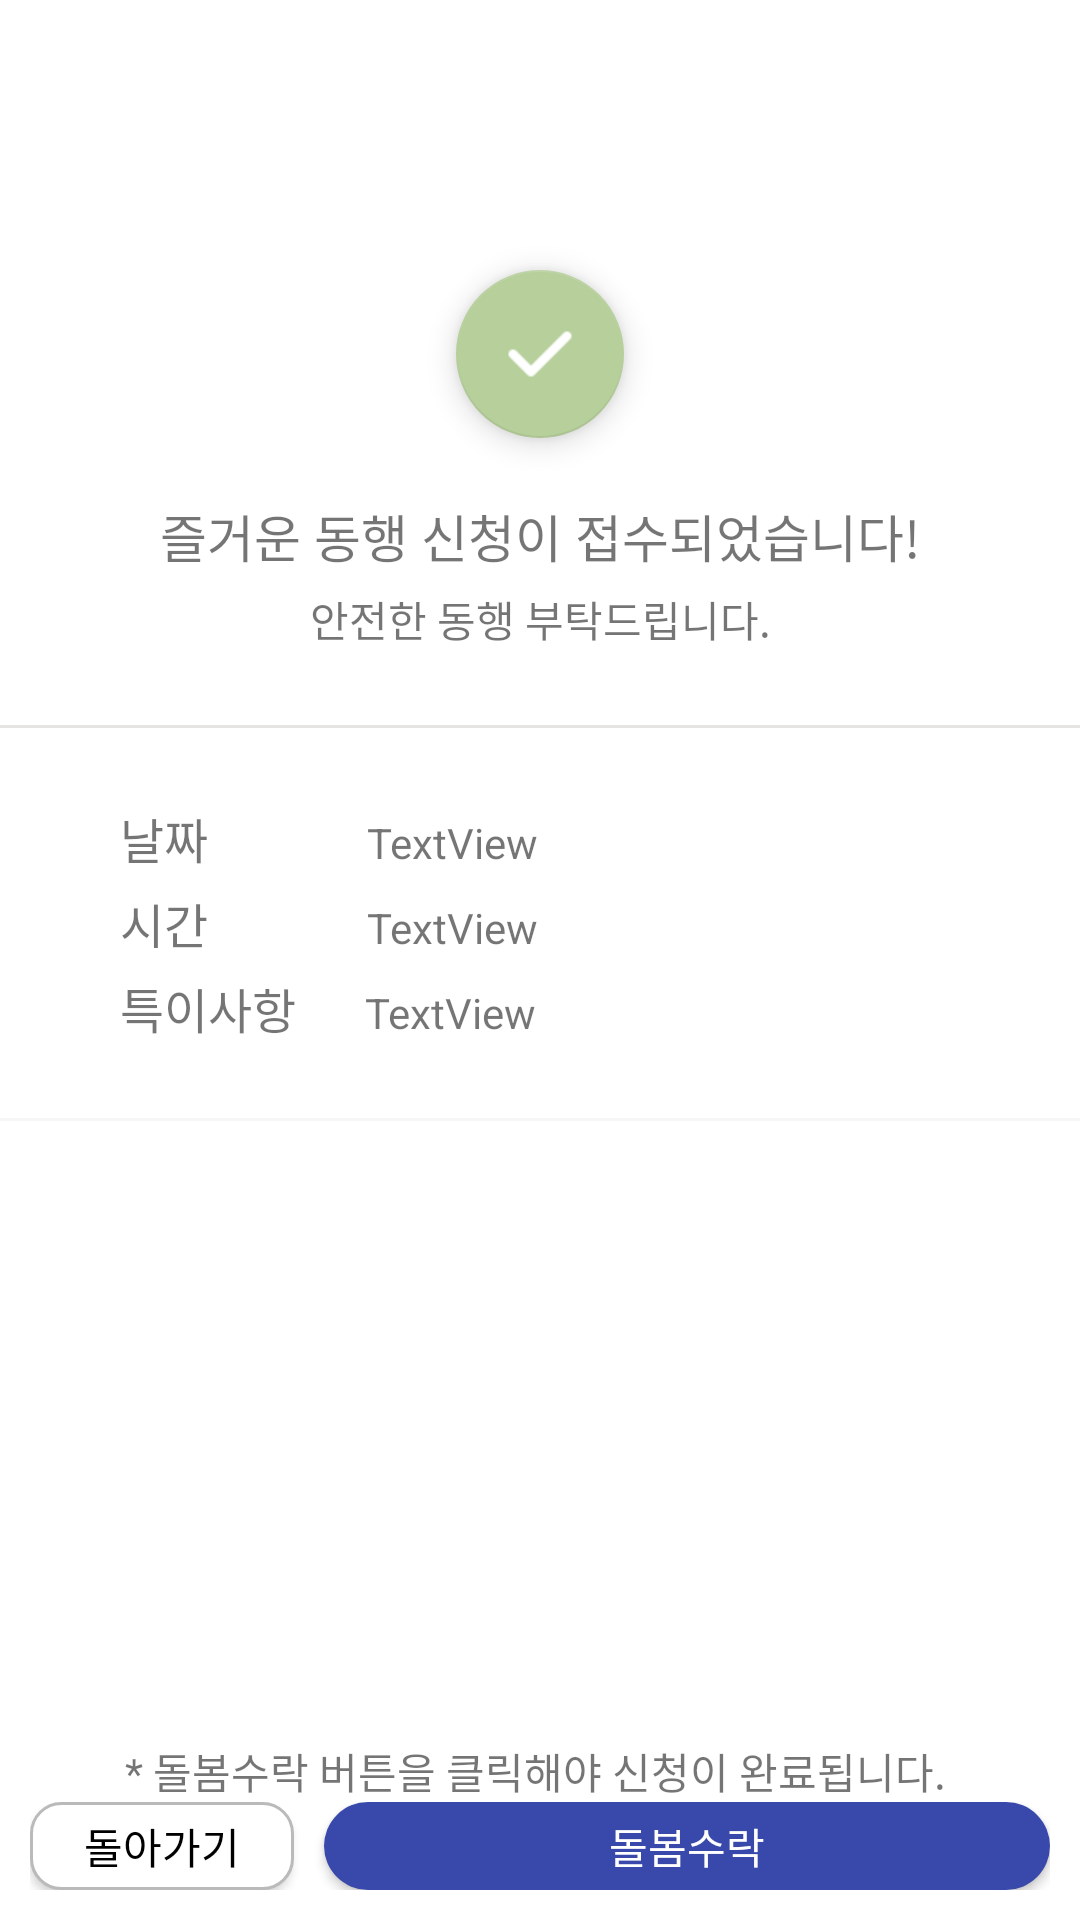

Icons on this 1080w x 1920h Android screen, each with its box as box(x1, y1, x2, y2):
checkmark: box(456, 270, 624, 438)
